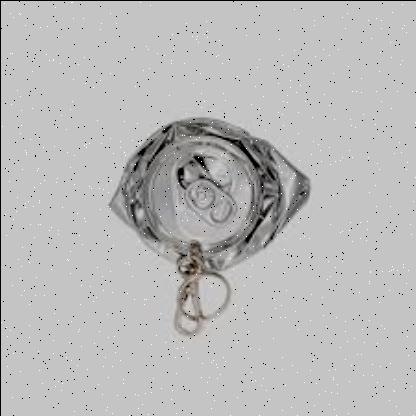Can: (106, 113, 316, 275)
